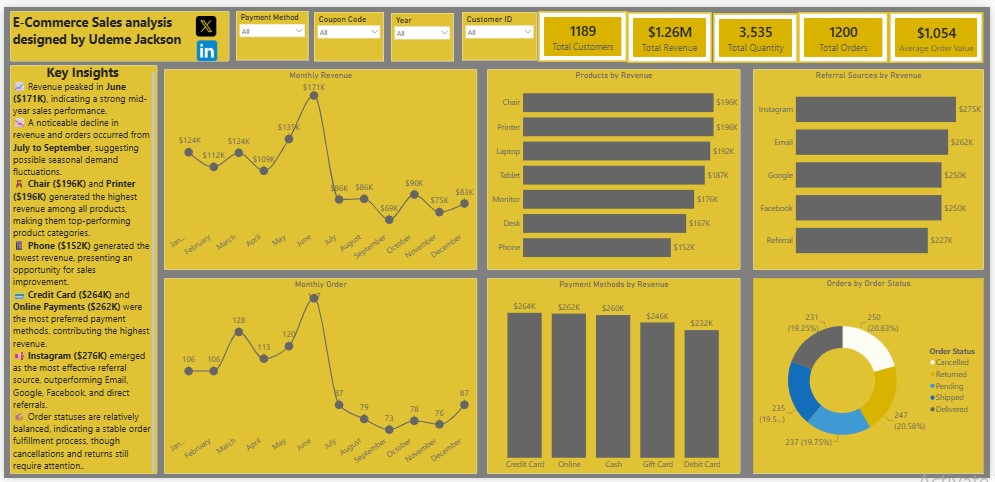

The dashboard page shown, as its layout file describes it:
{"tool":"powerbi","page":{"name":"Executive Summary of the E-commerce Sales Analysis","canvas":[2900,1385],"ordinal":0},"visuals":[{"type":"cardVisual","fields":{"Data":["_Measures.Total Revenue"]},"box":[1833.3,13.9,250,150],"z":0},{"type":"cardVisual","fields":{"Data":["_Measures.Total Quantity"]},"box":[2086.1,16.7,250,147.2],"z":1000},{"type":"cardVisual","fields":{"Data":["_Measures.Total Orders"]},"box":[2336.1,13.9,266.7,150],"z":2000},{"type":"cardVisual","fields":{"Data":["_Measures.Total Customers"]},"box":[1569.4,11.1,263.9,150],"z":3000},{"type":"slicer","fields":{"Values":["Cleaned Data.Year"]},"box":[1139.5,18.4,184.2,142.1],"z":4000},{"type":"slicer","fields":{"Values":["Cleaned Data.Coupon Code"]},"box":[913.2,15.8,205.3,144.7],"z":5000},{"type":"slicer","fields":{"Values":["Cleaned Data.CustomerID"]},"box":[1347.4,15.8,221.1,142.1],"z":6000},{"type":"slicer","fields":{"Values":["Cleaned Data.Payment Method"]},"box":[681.2,13,213,144.9],"z":7000},{"type":"textbox","box":[17.5,12.5,645,147.5],"z":8000},{"type":"image","box":[494.4,88.9,205.6,80.6],"z":9000},{"type":"image","box":[530.6,19.4,130.6,72.2],"z":10000},{"type":"textbox","box":[18.2,169.7,433.3,1203],"z":11000},{"type":"cardVisual","fields":{"Data":["_Measures.Average Order Value"]},"box":[2602.8,13.9,277.8,150],"z":12000},{"type":"lineChart","title":"Monthly Revenue","fields":{"Category":["Cleaned Data.Date.Variation.Date Hierarchy.Month"],"Y":["_Measures.Total Revenue"]},"box":[469.7,181.8,921.2,590.9],"z":13000},{"type":"lineChart","title":"Monthly Order","fields":{"Category":["Cleaned Data.Date.Variation.Date Hierarchy.Month"],"Y":["_Measures.Total Orders"]},"box":[469.7,797,921.2,575.8],"z":14000},{"type":"clusteredBarChart","title":"Products by Revenue","fields":{"Category":["Cleaned Data.Product"],"Y":["_Measures.Total Revenue"]},"box":[1421.2,181.8,745.5,590.9],"z":15000},{"type":"clusteredColumnChart","title":"Payment Methods by Revenue","fields":{"Category":["Cleaned Data.Payment Method"],"Y":["_Measures.Total Revenue"]},"box":[1421.2,797,745.5,575.8],"z":16000},{"type":"clusteredBarChart","title":"Referral Sources by Revenue","fields":{"Category":["Cleaned Data.Referral Source"],"Y":["_Measures.Total Revenue"]},"box":[2203,181.8,678.8,590.9],"z":17000},{"type":"donutChart","title":"Orders by Order Status","fields":{"Category":["Cleaned Data.Order Status"],"Y":["_Measures.Total Orders"]},"box":[2203,797,678.8,575.8],"z":18000}]}

Visuals, with their boxes in screenshot pixels (x1, y1, x2, y2), scaled from the page's 2900x1385 canvas onto the 995x482 screenshot:
cardVisual - _Measures.Total Revenue: select_region(629, 5, 715, 57)
cardVisual - _Measures.Total Quantity: select_region(716, 6, 802, 57)
cardVisual - _Measures.Total Orders: select_region(802, 5, 893, 57)
cardVisual - _Measures.Total Customers: select_region(538, 4, 629, 56)
slicer - Cleaned Data.Year: select_region(391, 6, 454, 56)
slicer - Cleaned Data.Coupon Code: select_region(313, 5, 384, 56)
slicer - Cleaned Data.CustomerID: select_region(462, 5, 538, 55)
slicer - Cleaned Data.Payment Method: select_region(234, 5, 307, 55)
textbox: select_region(6, 4, 227, 56)
image: select_region(170, 31, 240, 59)
image: select_region(182, 7, 227, 32)
textbox: select_region(6, 59, 155, 478)
cardVisual - _Measures.Average Order Value: select_region(893, 5, 988, 57)
"Monthly Revenue" lineChart: select_region(161, 63, 477, 269)
"Monthly Order" lineChart: select_region(161, 277, 477, 478)
"Products by Revenue" clusteredBarChart: select_region(488, 63, 743, 269)
"Payment Methods by Revenue" clusteredColumnChart: select_region(488, 277, 743, 478)
"Referral Sources by Revenue" clusteredBarChart: select_region(756, 63, 989, 269)
"Orders by Order Status" donutChart: select_region(756, 277, 989, 478)
